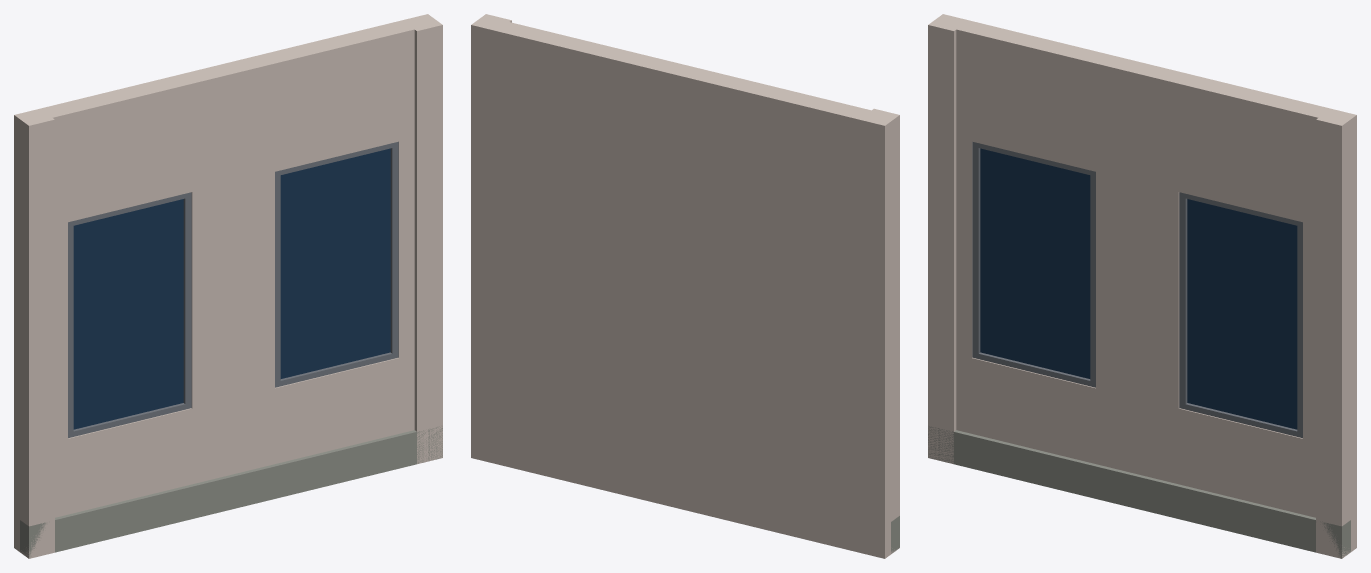
The model's file is mid-w1.fbx.
3 renders of one model, left to right at view 1: azimuth 30°, elevation 25°; view 2: azimuth 150°, elevation 25°; view 3: azimuth 330°, elevation 25°, orthographic.
Parts seen in each view (by area): view 1: a1053_mid-w1; view 2: a1053_mid-w1; view 3: a1053_mid-w1.
Boxes of the visible parts, <box> form: a1053_mid-w1: <box>14,14,442,558</box>; a1053_mid-w1: <box>471,14,899,558</box>; a1053_mid-w1: <box>928,14,1356,558</box>.
Size of the model in its own units: 4 by 4 by 0.25.
